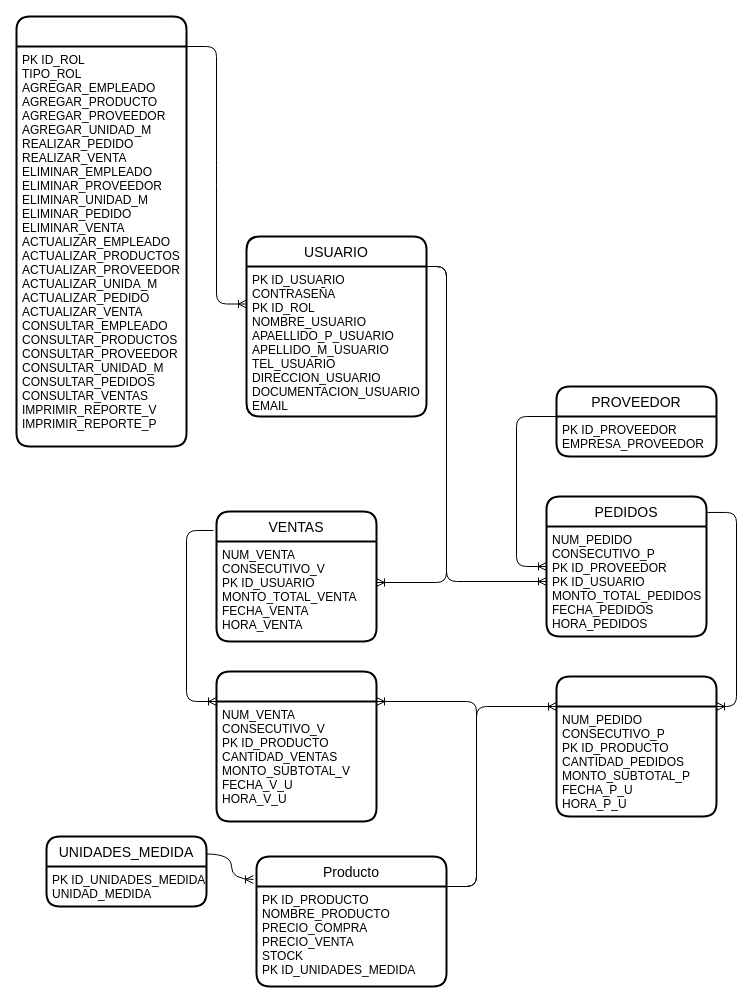
Some shapes in this 753 by 1003 pixel diagram are drawn without their labels. The shapes that lost their labels are listed below. From the top down, each one's box as (x1, y1, x2, y2) in pixels, then its label:
(15, 15, 187, 447): TIPO_ROLES
(215, 670, 377, 822): DETALLES_VENTAS
(555, 675, 717, 817): DETALLES_PEDIDOS
